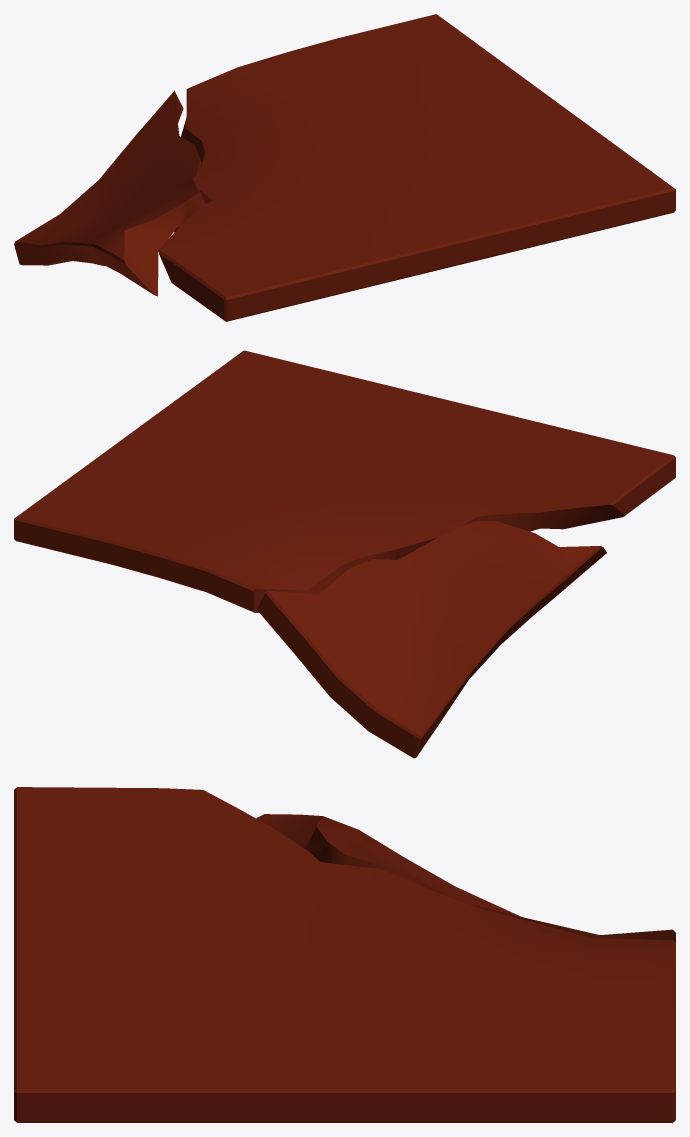
File: Toit02.fbx
3 renders of one model, top to bottom at view 1: azimuth 30°, elevation 25°; view 2: azimuth 150°, elevation 25°; view 3: azimuth 270°, elevation 25°, orthographic. The views are drawn at different scales.
Visible parts, largest first — view 1: Toit02; view 2: Toit02; view 3: Toit02.
Boxes of the visible parts, box(x1,y1,x2,y2) form: Toit02: box(14, 14, 675, 321); Toit02: box(14, 350, 675, 758); Toit02: box(14, 787, 675, 1122).
Bounding box in the file's own units: 1824 × 563 × 1632.
